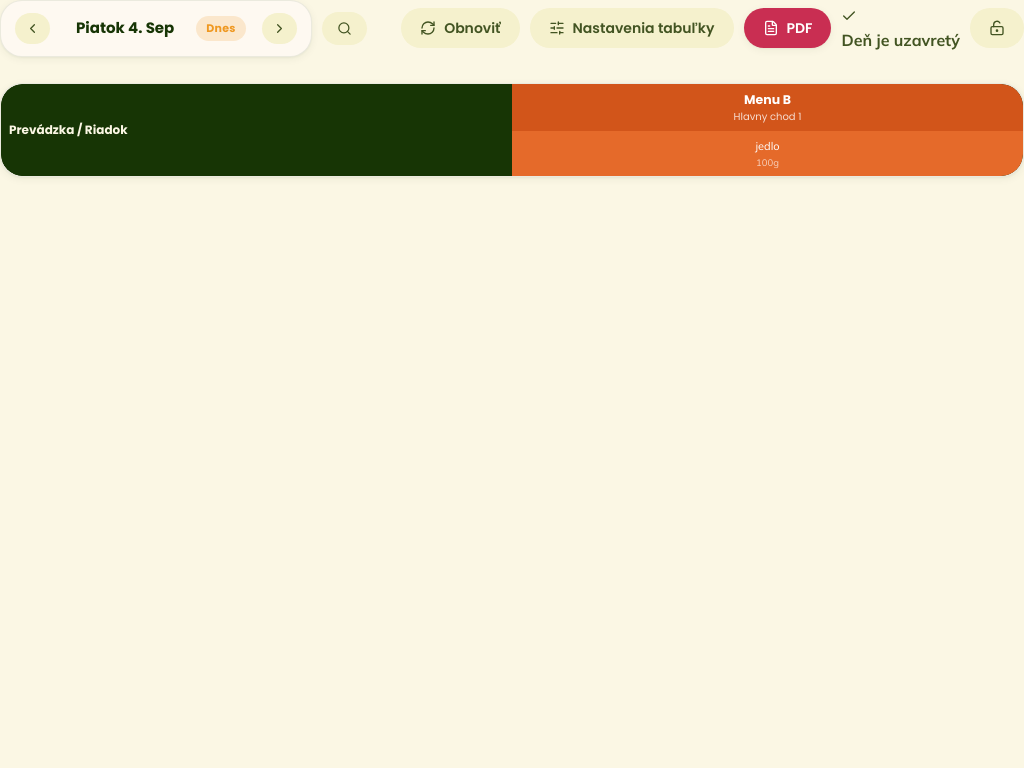
it: AdminDashboard › unlocks a closed date after explicit confirmation and returns to the open state
What coordinates should you click on to do the following:
click the button named "odomknúť"
I would click on:
 (997, 28)
Its box is 970,8 -> 1023,48.
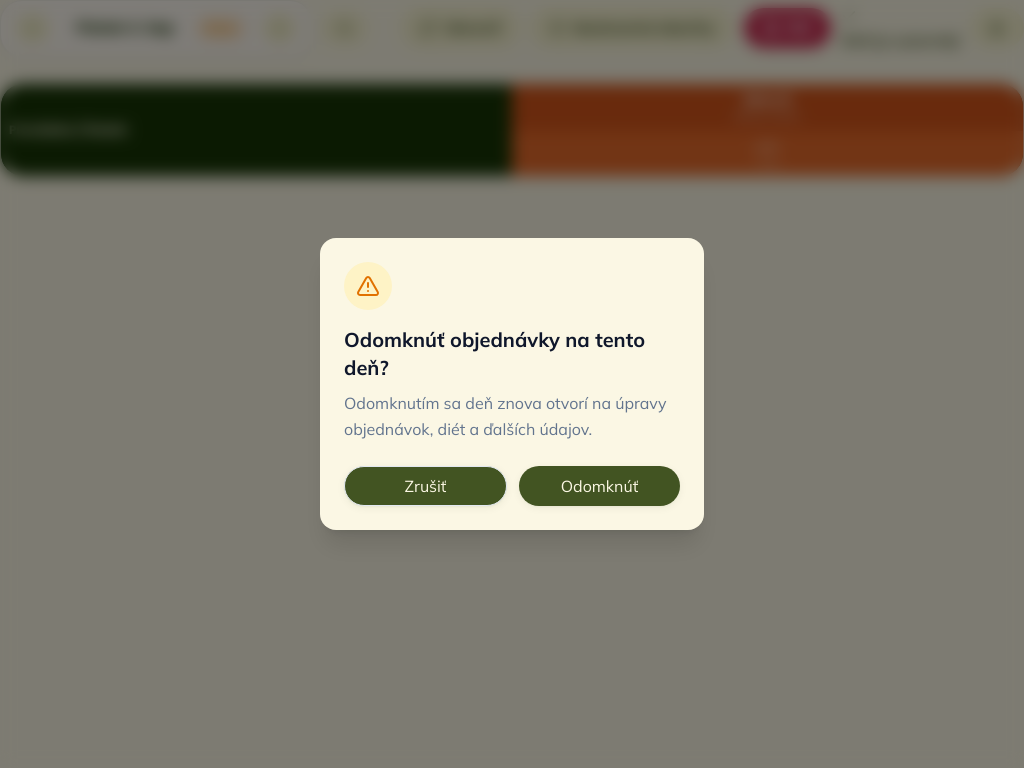
Expected: the text "znova otvorí na úpravy objednávok, diét" is shown, 344,393 -> 666,439
What coordinates should you click on to do the following:
click the button "Odomknúť"
I would click on:
 (600, 486)
Its box is 519,466 -> 680,506.
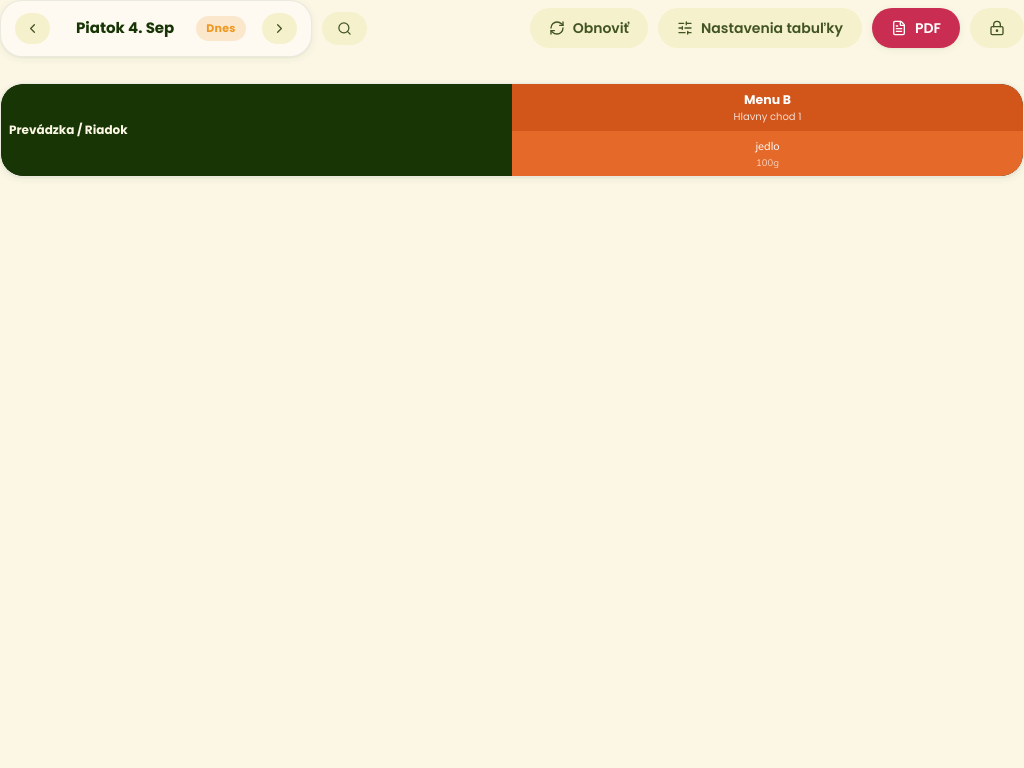
Expected: the button named "uzamknúť" is shown, 970,8 -> 1023,48
Expected: the message "Deň je uzavretý" is gone
